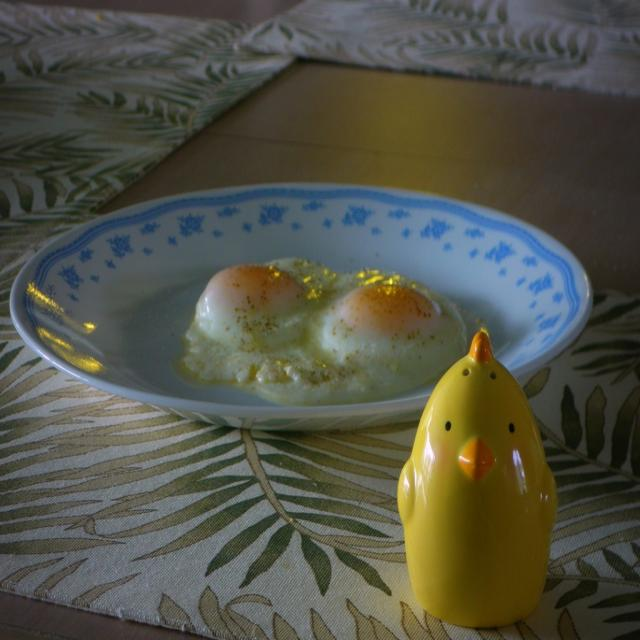Egg: (174, 256, 470, 403)
